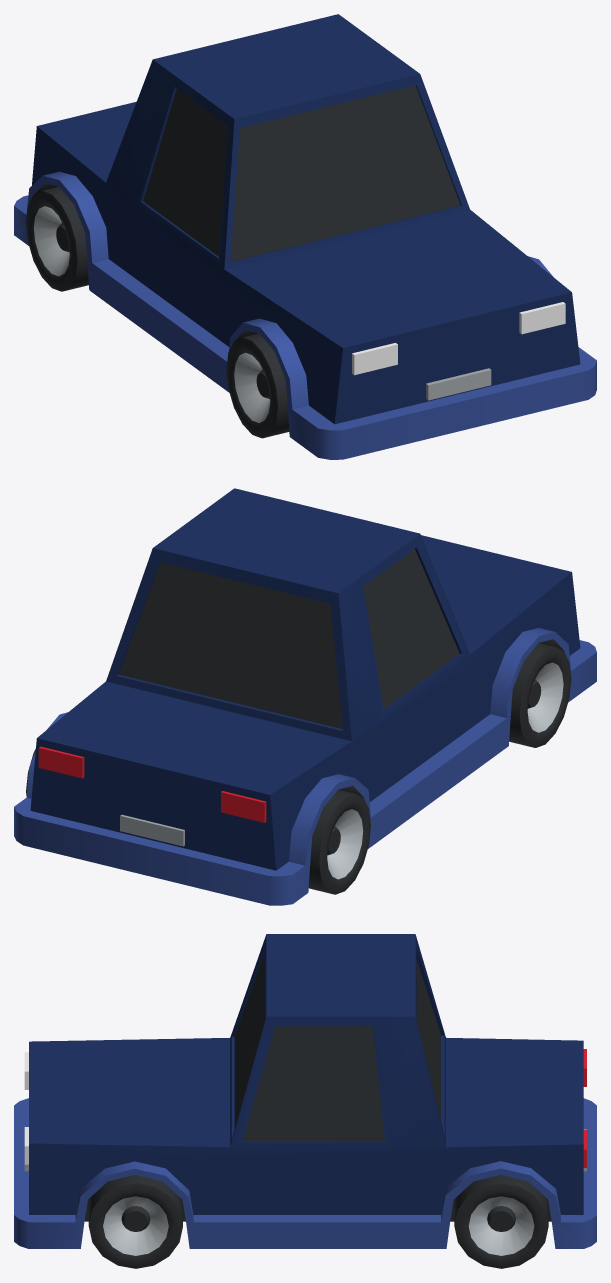
Rendered from Car_1.fbx.
3 renders of one model, top to bottom at view 1: azimuth 30°, elevation 25°; view 2: azimuth 150°, elevation 25°; view 3: azimuth 270°, elevation 25°, orthographic. The views are drawn at different scales.
Parts seen in each view (by area): view 1: Car1, Car1Wheel2, Car1Wheel4; view 2: Car1, Car1Wheel4, Car1Wheel2; view 3: Car1, Car1Wheel3, Car1Wheel1.
Part boxes in pixels (bbox=[...]): Car1: bbox=[14, 14, 596, 459]; Car1Wheel2: bbox=[226, 333, 289, 438]; Car1Wheel4: bbox=[26, 186, 88, 291]; Car1: bbox=[14, 488, 596, 905]; Car1Wheel4: bbox=[308, 789, 370, 894]; Car1Wheel2: bbox=[509, 643, 571, 747]; Car1: bbox=[14, 934, 596, 1248]; Car1Wheel3: bbox=[454, 1175, 548, 1268]; Car1Wheel1: bbox=[88, 1175, 182, 1268].
Size of the model in its own units: 289 by 232 by 538.
Materials: 1 (1 with a texture image).
